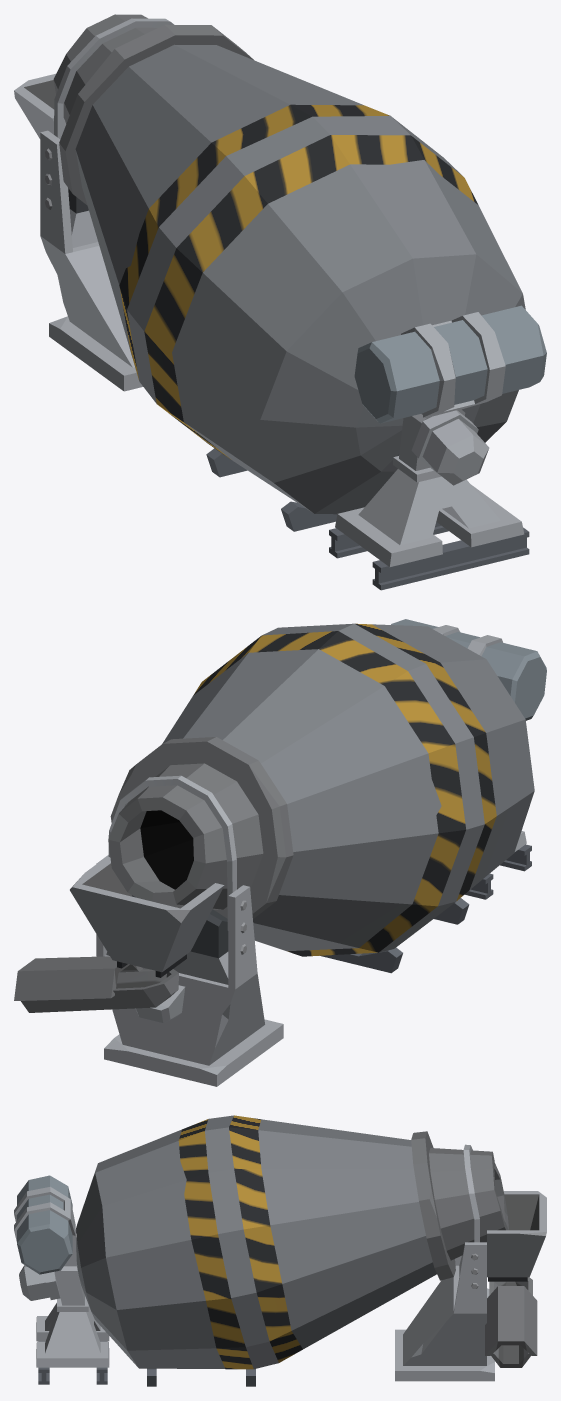
The model's file is SM_Veh_Truck_01_ConcreteMixer.fbx.
3 renders of one model, top to bottom at view 1: azimuth 30°, elevation 25°; view 2: azimuth 150°, elevation 25°; view 3: azimuth 270°, elevation 25°, orthographic. The views are drawn at different scales.
Visible parts, largest first — view 1: SM_Veh_Truck_01_ConcreteMixer_Mixer, SM_Veh_Truck_01_ConcreteMixer; view 2: SM_Veh_Truck_01_ConcreteMixer_Mixer, SM_Veh_Truck_01_ConcreteMixer, SM_Veh_Truck_01_ConcreteMixer_Chute_Extension, SM_Veh_Truck_01_ConcreteMixer_Chute; view 3: SM_Veh_Truck_01_ConcreteMixer_Mixer, SM_Veh_Truck_01_ConcreteMixer, SM_Veh_Truck_01_ConcreteMixer_Chute_Extension, SM_Veh_Truck_01_ConcreteMixer_Chute.
Part boxes in pixels (<box>): SM_Veh_Truck_01_ConcreteMixer_Mixer: <box>53,14,525,514</box>; SM_Veh_Truck_01_ConcreteMixer: <box>14,18,546,590</box>; SM_Veh_Truck_01_ConcreteMixer_Mixer: <box>108,623,534,956</box>; SM_Veh_Truck_01_ConcreteMixer: <box>70,619,546,1086</box>; SM_Veh_Truck_01_ConcreteMixer_Chute_Extension: <box>14,956,142,1000</box>; SM_Veh_Truck_01_ConcreteMixer_Chute: <box>21,969,178,1012</box>; SM_Veh_Truck_01_ConcreteMixer_Mixer: <box>76,1115,508,1369</box>; SM_Veh_Truck_01_ConcreteMixer: <box>14,1144,546,1386</box>; SM_Veh_Truck_01_ConcreteMixer_Chute_Extension: <box>485,1286,537,1355</box>; SM_Veh_Truck_01_ConcreteMixer_Chute: <box>489,1277,532,1367</box>.
Size of the model in its own units: 321 by 323 by 669.
Materials: 2 (2 with a texture image).
